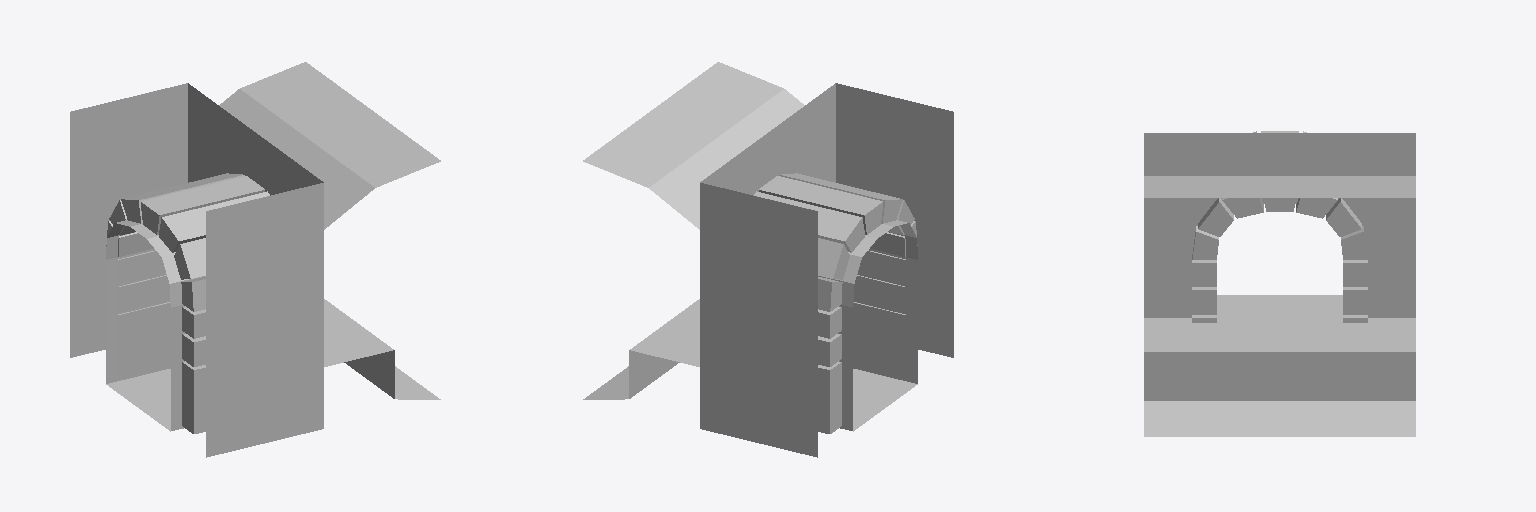
3 renders of one model, left to right at view 1: azimuth 30°, elevation 25°; view 2: azimuth 150°, elevation 25°; view 3: azimuth 270°, elevation 25°, orthographic.
Visible parts, largest first — view 1: objobjobjRegroup02; view 2: objobjobjRegroup02; view 3: objobjobjRegroup02.
Boxes of the visible parts, <box> form: objobjobjRegroup02: <box>70,62,440,457</box>; objobjobjRegroup02: <box>583,62,953,457</box>; objobjobjRegroup02: <box>1144,131,1415,436</box>.
Bounding box in the file's own units: 10 × 10 × 10.